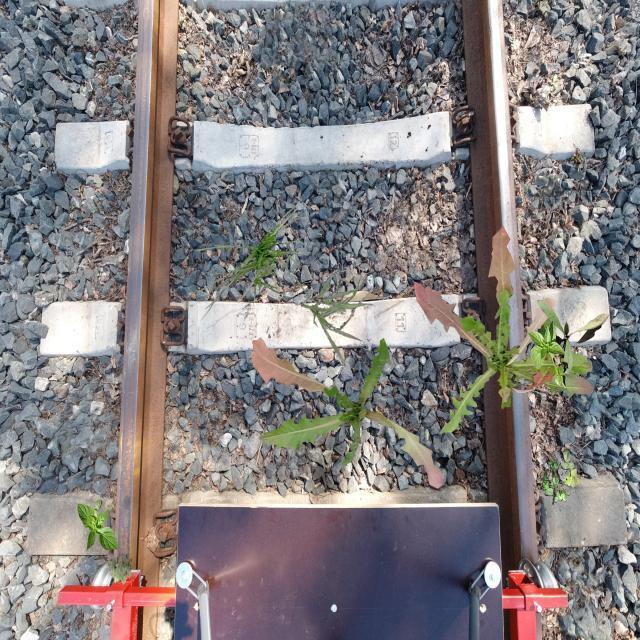Plant: (414, 226, 594, 434), (250, 337, 442, 489), (194, 199, 312, 322), (301, 270, 374, 364), (537, 300, 608, 374), (527, 318, 575, 389), (77, 499, 119, 552), (542, 450, 580, 505), (107, 554, 133, 586)
